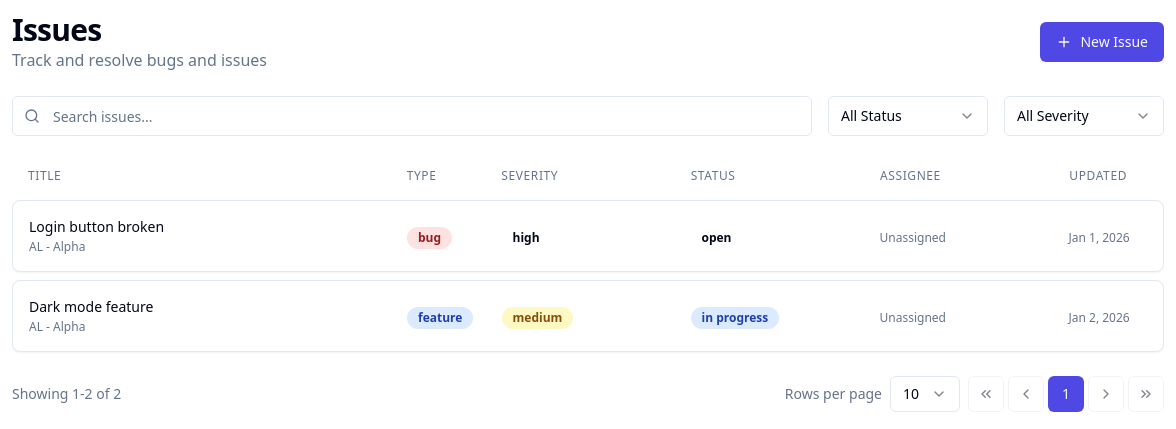
Test case: IssuesPage › should filter visible issues by title with client-side search
The width and height of the screenshot is (1176, 429).
Check: the heading "Login button broken" is shown, box [29,217,164,236]
Type "Login" into the field with placeholder "Search issues...". click: (412, 116)
box: [12,96,812,136]
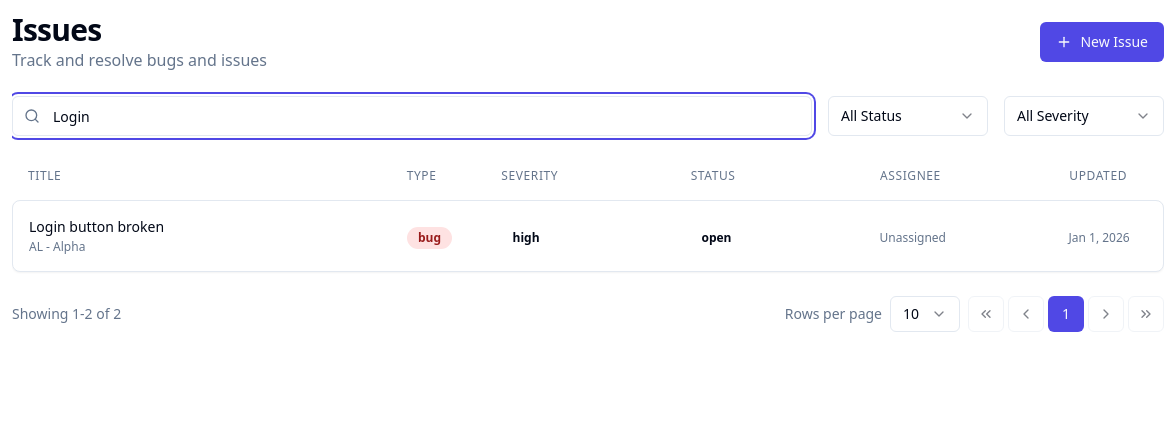
Check: the heading "Login button broken" is shown, box [29,217,164,236]
Check: the heading "Dark mode feature" is gone
